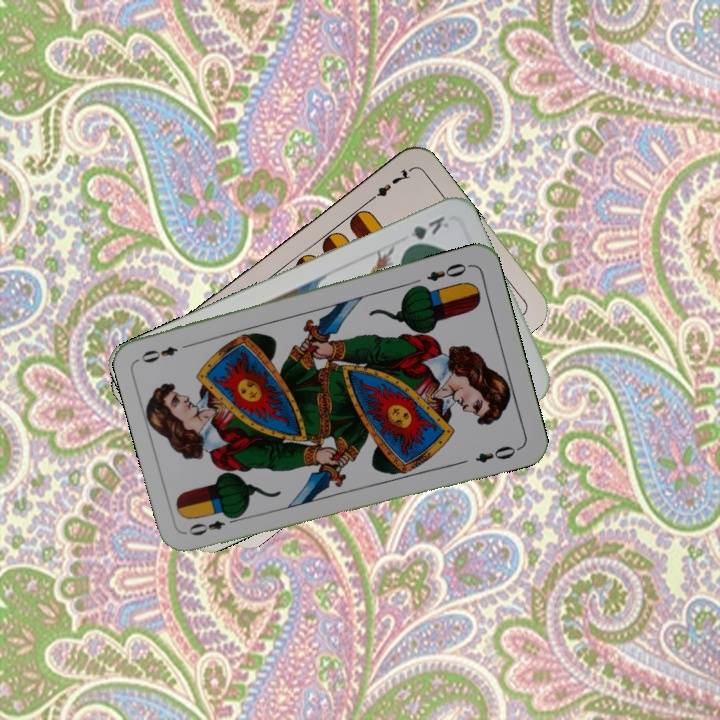E7: (363, 165, 414, 206)
EO: (184, 511, 242, 539), (422, 259, 474, 284)
GK: (400, 212, 452, 252)
